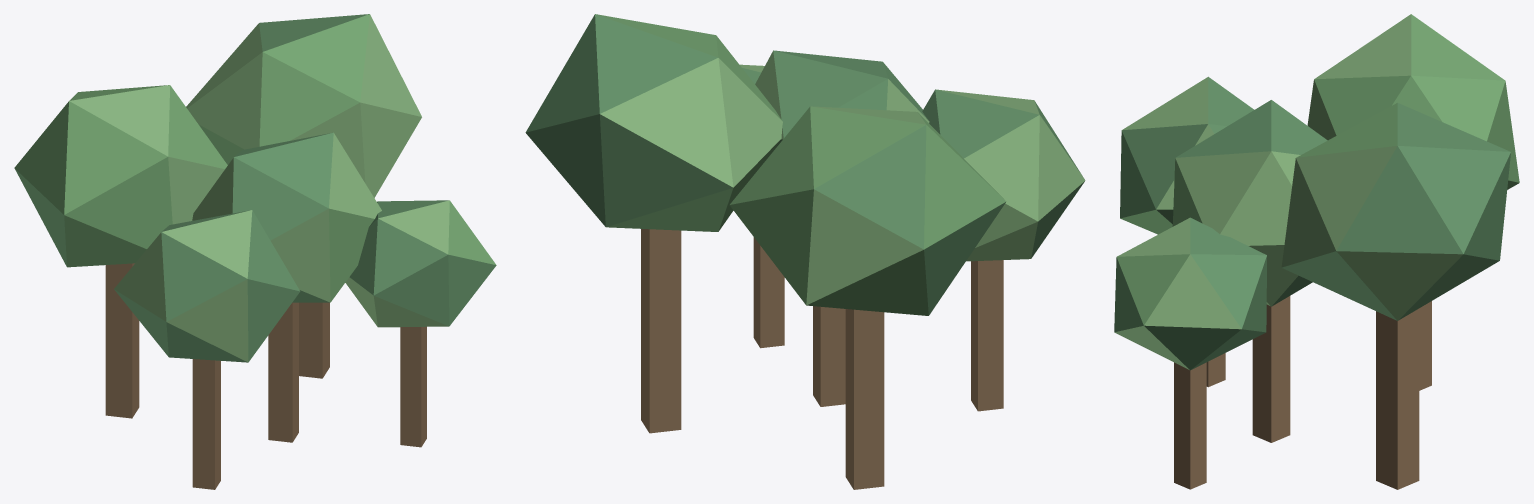
The model's file is forest_b.glb.
The picture shows the model from 3 angles, left to right: view 1: azimuth 30°, elevation 25°; view 2: azimuth 150°, elevation 25°; view 3: azimuth 270°, elevation 25°; orthographic projection. The views are drawn at different scales.
Visible parts, largest first — view 1: forest_b; view 2: forest_b; view 3: forest_b.
Part boxes in pixels (x1,y1,x2,y2): forest_b: [14, 14, 496, 489]; forest_b: [525, 14, 1085, 489]; forest_b: [1114, 14, 1519, 489].
Bounding box in the file's own units: 0.9838 × 0.8932 × 0.8997.
